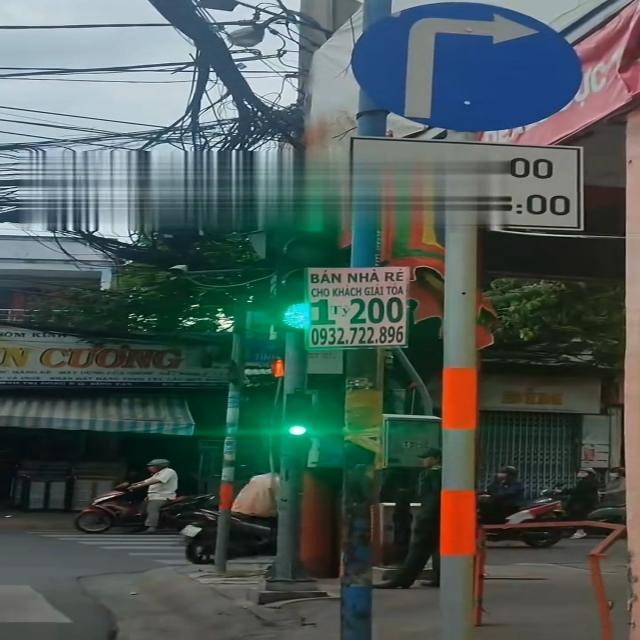301d-cac-xe-chi-duoc-re-phai-2: (344, 0, 584, 128)
